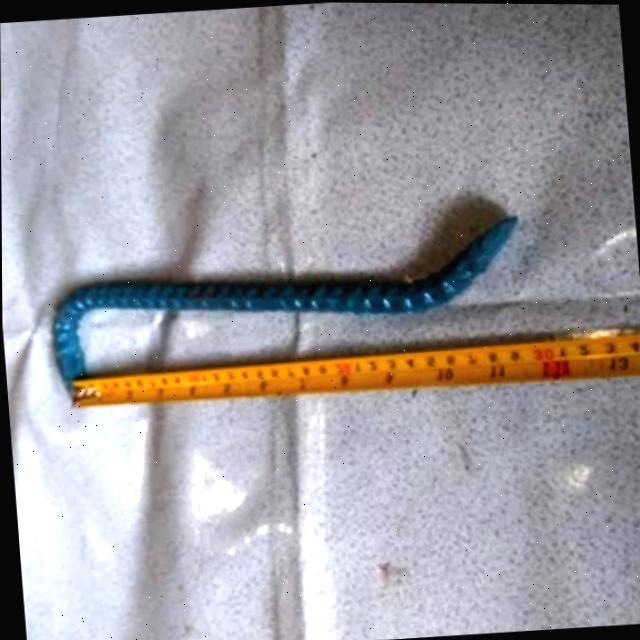crow bar: (46, 211, 522, 399)
